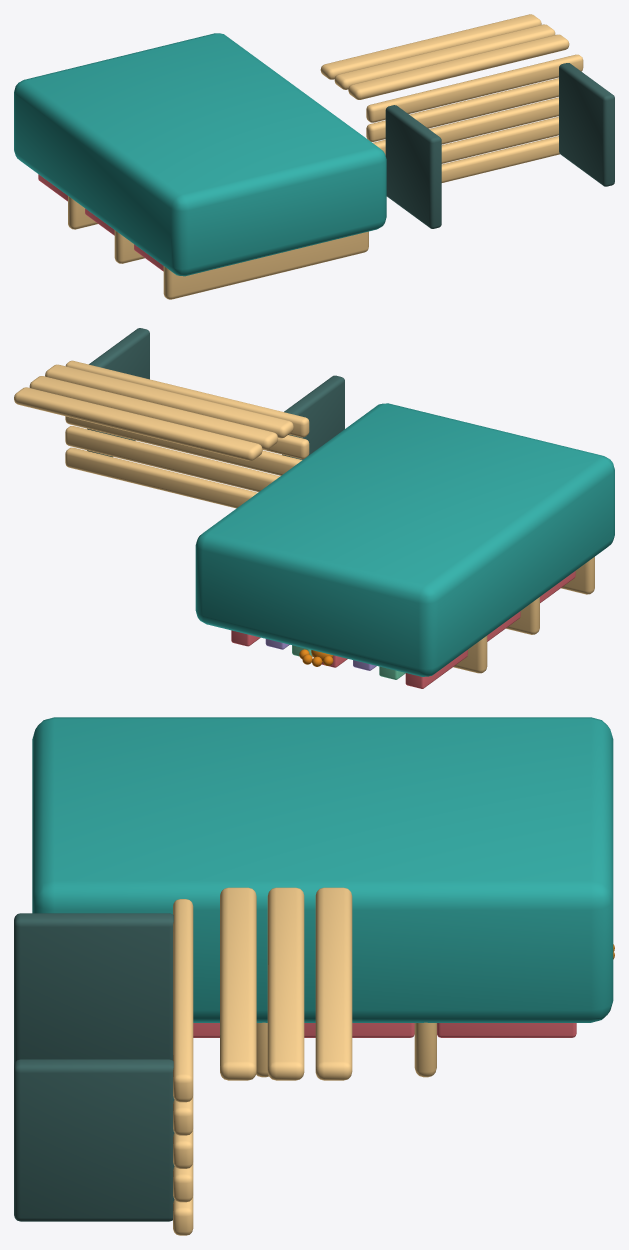
Rendered from BoulevardLandmark6.fbx.
The picture shows the model from 3 angles, top to bottom: view 1: azimuth 30°, elevation 25°; view 2: azimuth 150°, elevation 25°; view 3: azimuth 270°, elevation 25°; orthographic projection. The views are drawn at different scales.
Parts seen in each view (by area): view 1: BoulevardLandmark6; view 2: BoulevardLandmark6; view 3: BoulevardLandmark6.
Boxes of the visible parts, x1=… form: BoulevardLandmark6: x1=14, y1=14, x2=614, y2=299; BoulevardLandmark6: x1=14, y1=328, x2=614, y2=688; BoulevardLandmark6: x1=14, y1=717, x2=614, y2=1235.
Bounding box in the file's own units: 2.43 × 0.6525 × 1.63.
